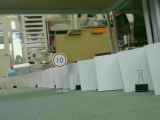speed_10: (51, 52, 67, 68)
